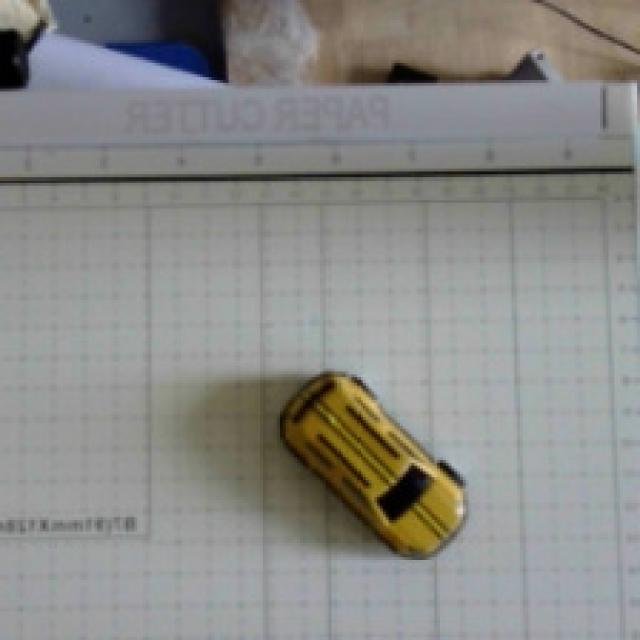Yellow Car: (217, 311, 511, 604)
